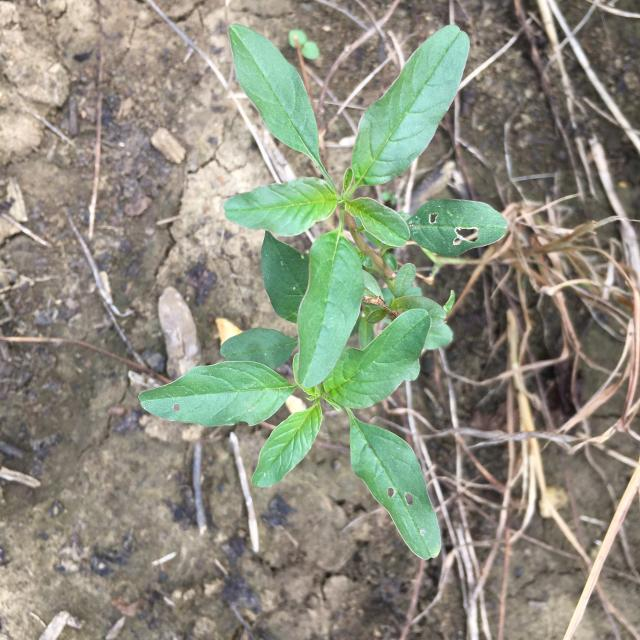Waterhemp: (138, 23, 508, 561)
